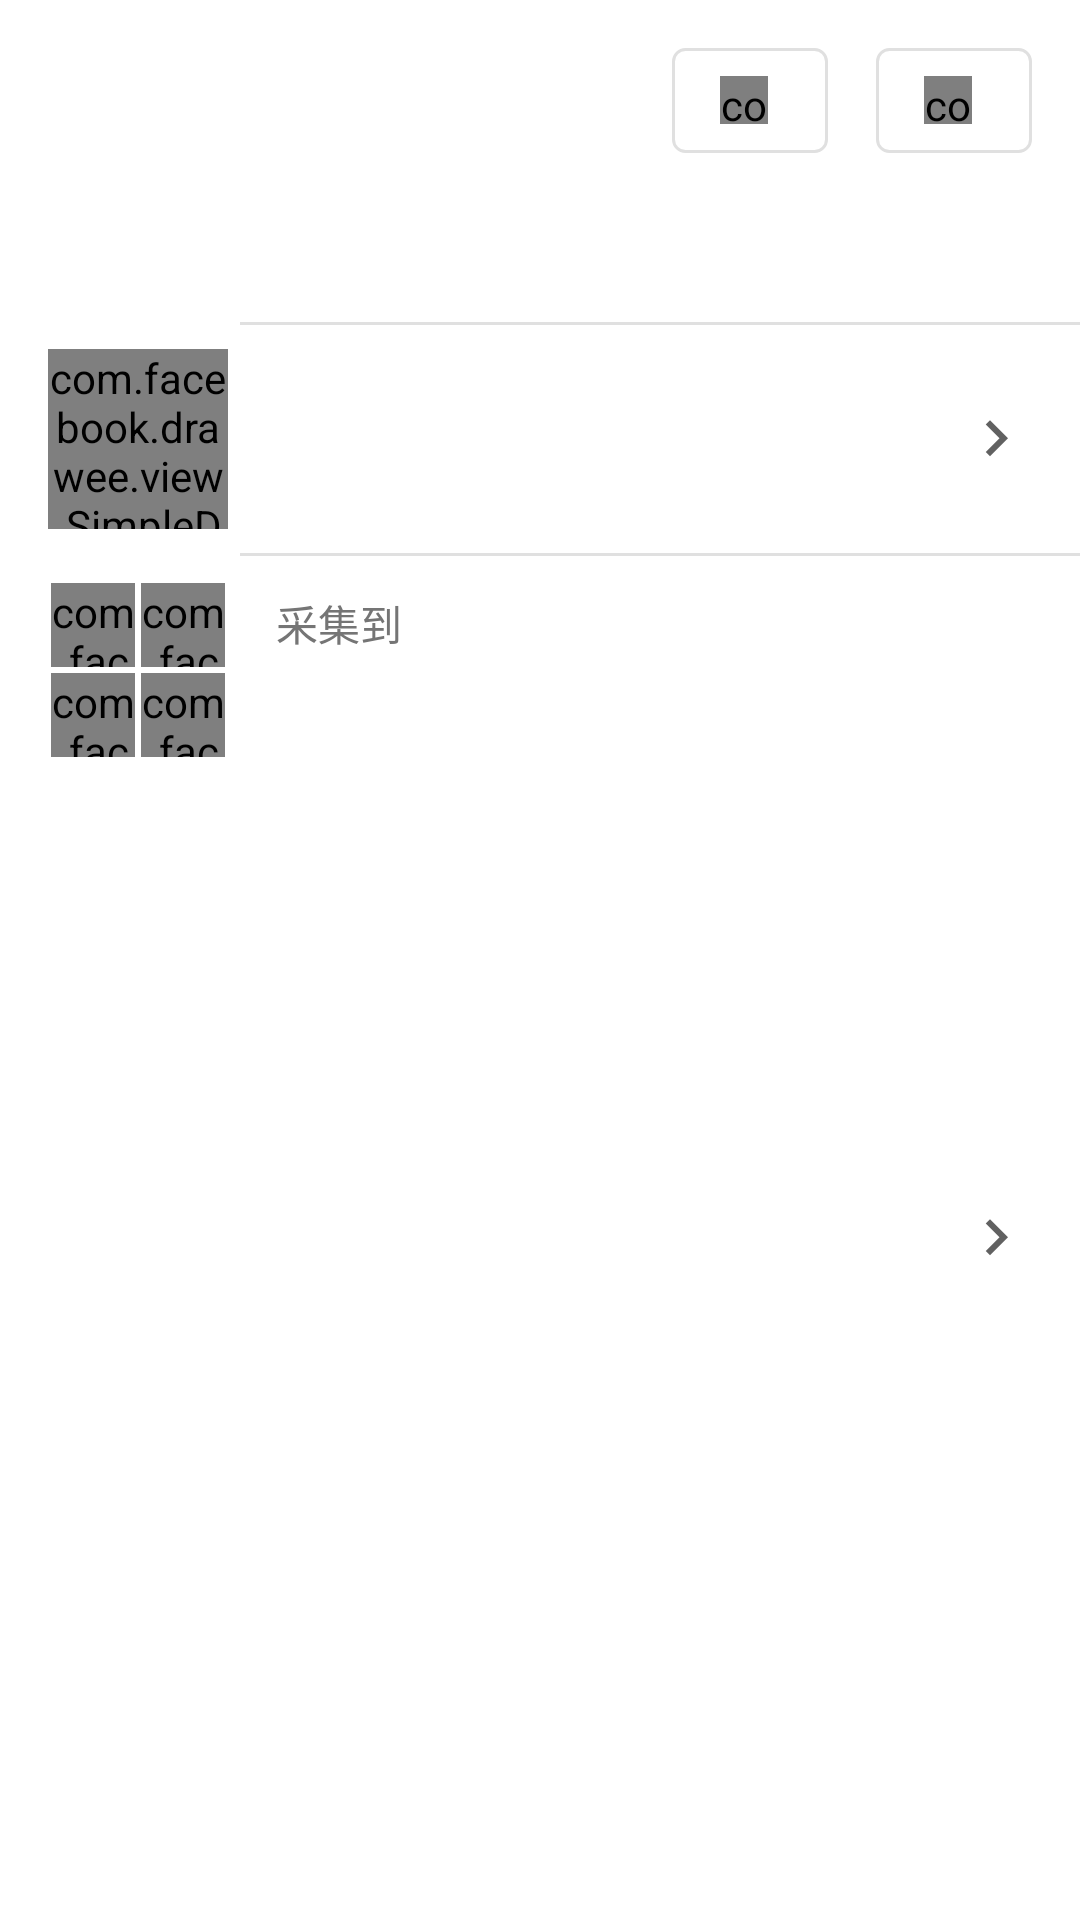

Icons on this 1080 × 1920 Android screen, each with the point to tap as point (x, y):
keyboard arrow right: point (997, 438), point (997, 1237)
